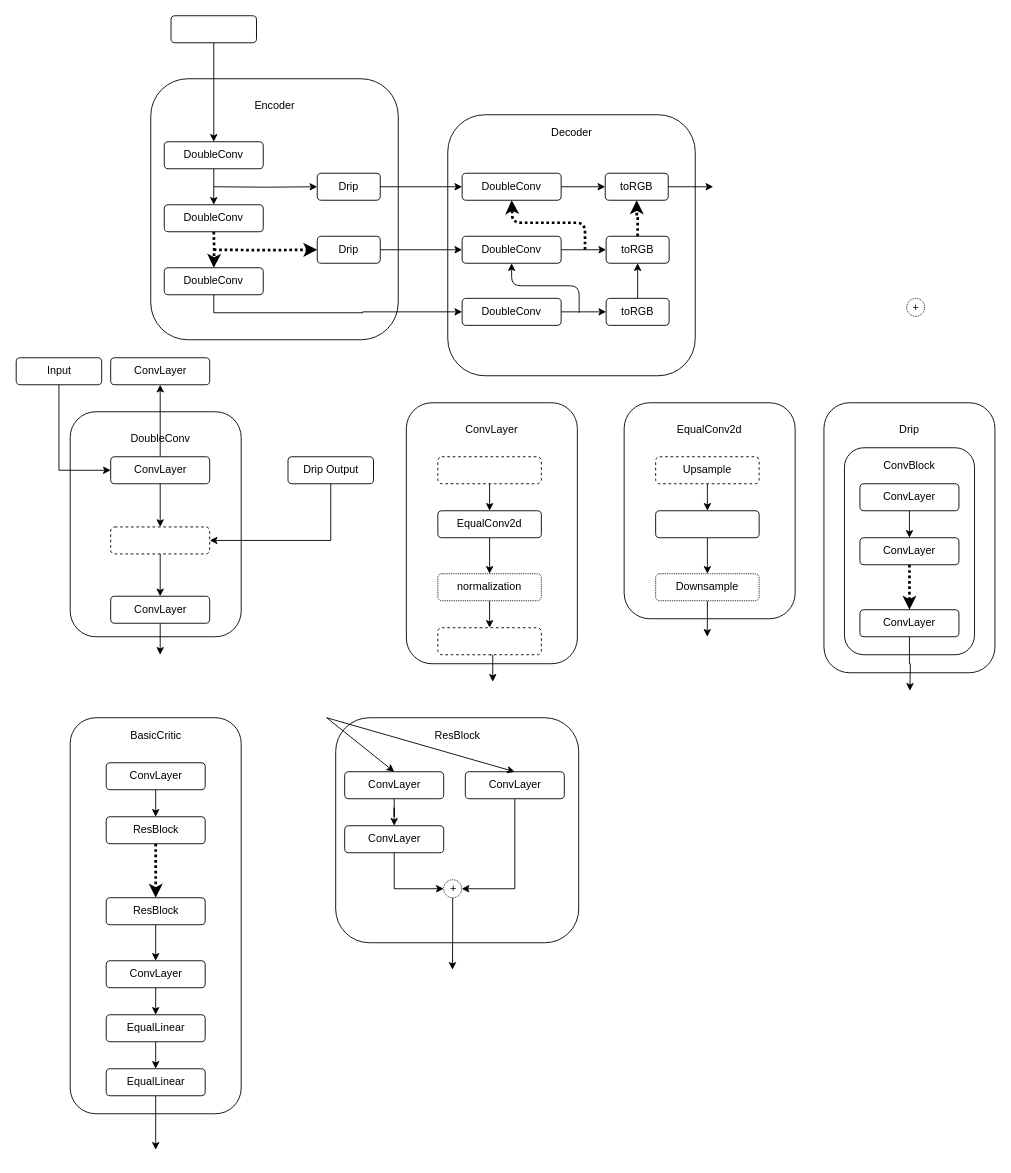
Some shapes in this 1011 by 1173 pixel diagram are drawn without their labels. The centre of each missing label's shape, as x and y in pixels:
cat: [160,540]
Conv2d: [707,524]
Image: [213,29]
noise add: [489,641]
noise cat: [489,470]
